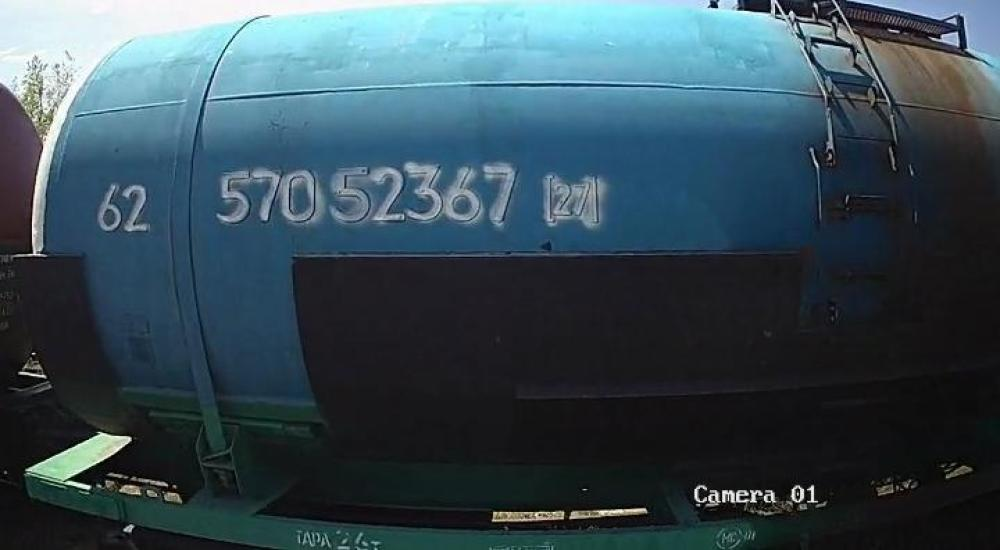Wagon-number: (214, 161, 520, 228)
